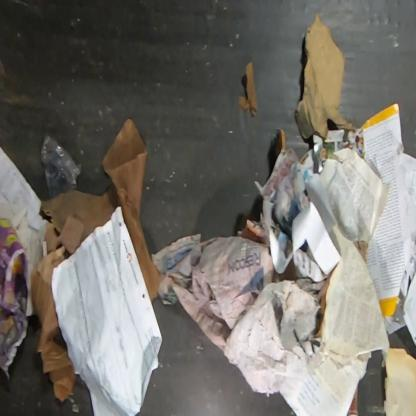cardboard: (296, 11, 354, 142), (238, 61, 257, 117)
soft_plastic: (42, 134, 82, 200)
